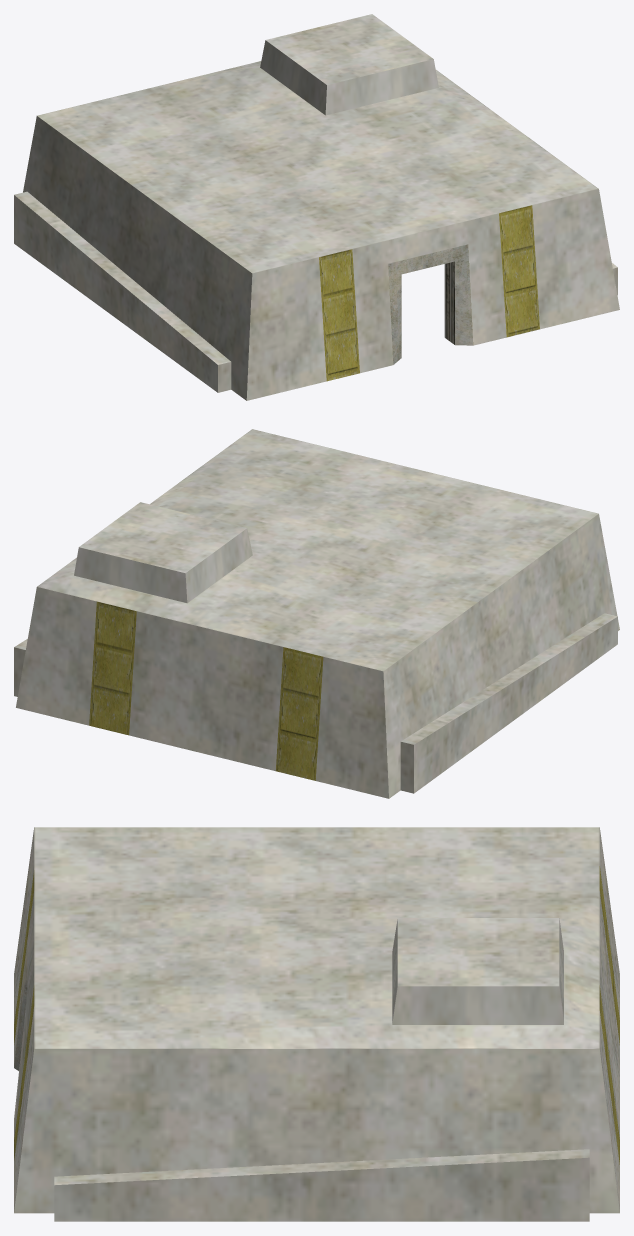
Rendered from mun_all_military_storage_shed_rebl_s01_r0_exterior_mesh_exterior_l2.fbx.
3 renders of one model, top to bottom at view 1: azimuth 30°, elevation 25°; view 2: azimuth 150°, elevation 25°; view 3: azimuth 270°, elevation 25°, orthographic. The views are drawn at different scales.
Parts seen in each view (by area): view 1: mesh_node; view 2: mesh_node; view 3: mesh_node.
Boxes of the visible parts, bbox=[...] form: mesh_node: bbox=[14, 14, 619, 400]; mesh_node: bbox=[14, 429, 619, 798]; mesh_node: bbox=[14, 827, 619, 1221].
Bounding box in the file's own units: 15 × 5.5 × 15.
1 material, 1 textured.
